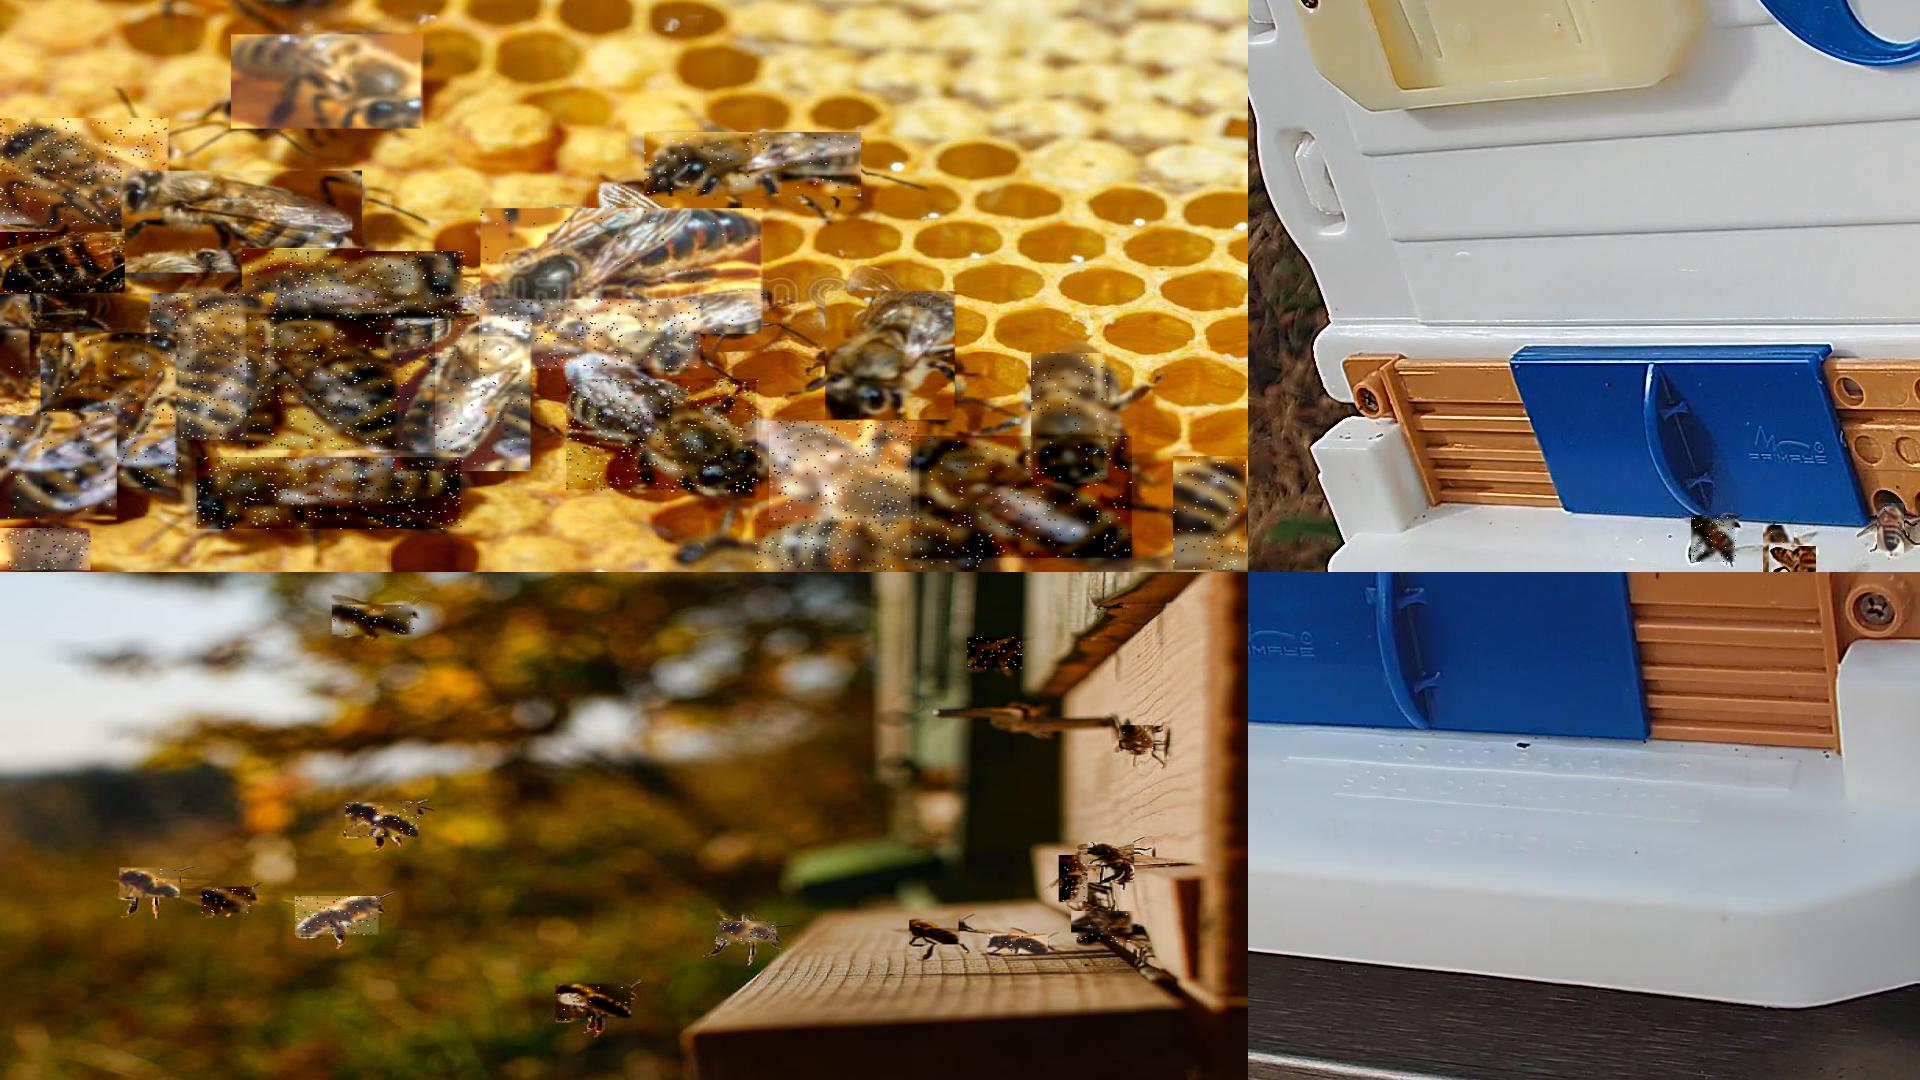bee: (911, 435, 1133, 559), (248, 314, 435, 451), (123, 171, 364, 277), (42, 334, 185, 492), (568, 380, 764, 493), (400, 319, 533, 472), (198, 458, 465, 530), (232, 34, 429, 131), (150, 294, 278, 442), (0, 117, 170, 225), (827, 291, 963, 421), (480, 301, 703, 372), (243, 251, 468, 320), (646, 133, 869, 202), (769, 421, 919, 521), (756, 516, 986, 571), (0, 415, 119, 521), (1033, 353, 1110, 485), (1174, 456, 1246, 571), (0, 232, 127, 294), (0, 527, 92, 571), (0, 294, 32, 405), (295, 897, 380, 938), (556, 985, 633, 1022), (345, 802, 419, 837), (334, 604, 417, 636), (1692, 516, 1738, 563), (1088, 843, 1141, 884), (967, 638, 1023, 671), (120, 868, 181, 898), (1763, 525, 1796, 571), (1059, 856, 1089, 906), (1072, 911, 1138, 934), (1878, 504, 1905, 556), (203, 886, 256, 914), (910, 919, 965, 945), (717, 922, 778, 945), (988, 934, 1050, 955), (1768, 546, 1818, 571), (1120, 725, 1155, 756), (1076, 928, 1131, 944)
queen: (481, 208, 769, 335)
